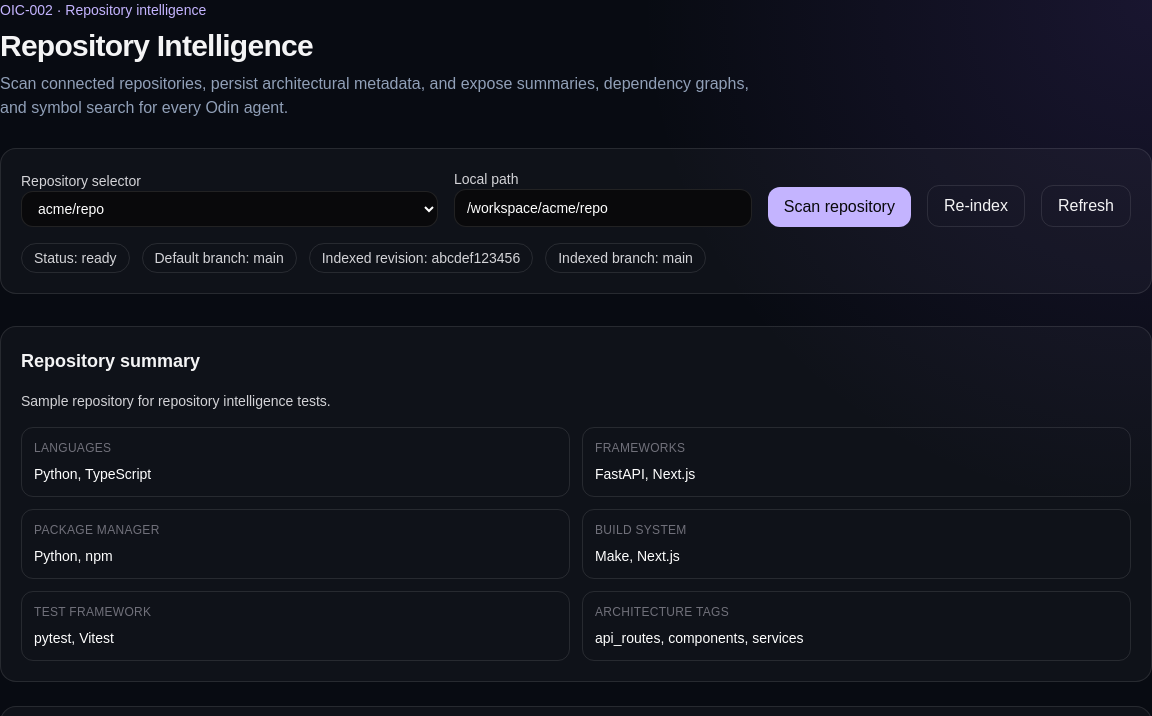
RepositoriesPage › starts async re-indexing and sends repository search filters
Step 1. Click the button "Re-index" → x=976, y=206, box [927,185,1025,227]
(page scrolled)
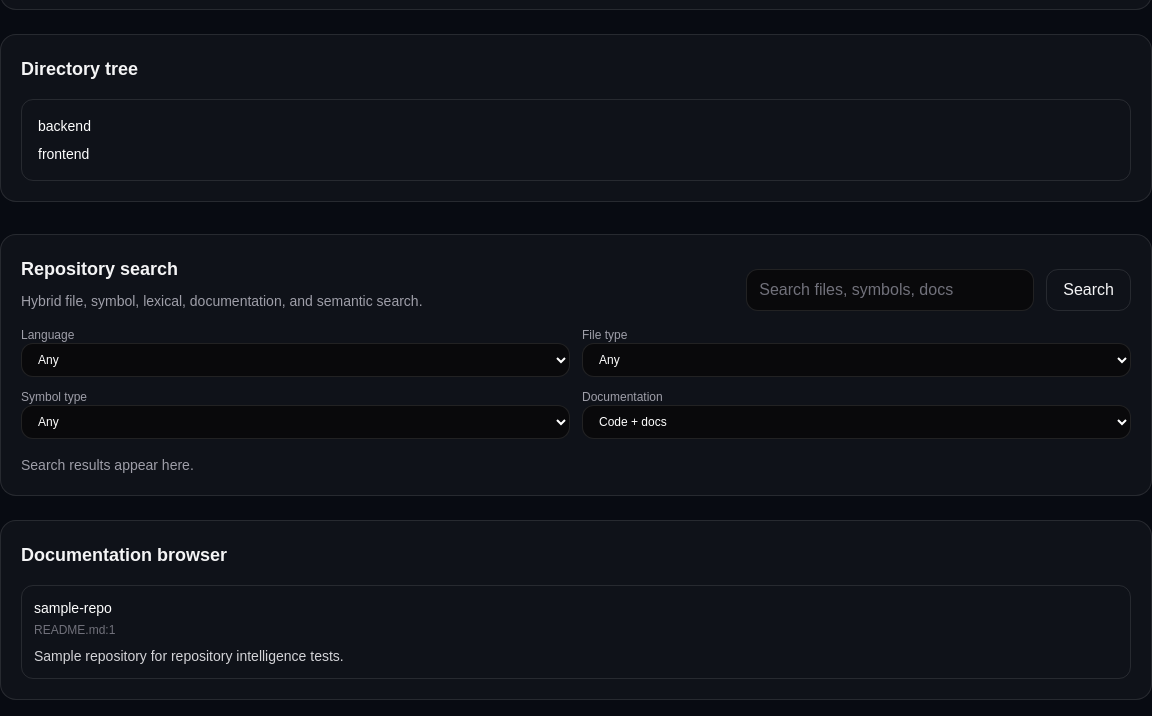
Step 2. Select "TypeScript" in the dropdown labelled "Language" → x=296, y=360, box [21,343,570,377]
Step 3. Select "Code" in the dropdown labelled "File type" → x=856, y=360, box [582,343,1131,377]
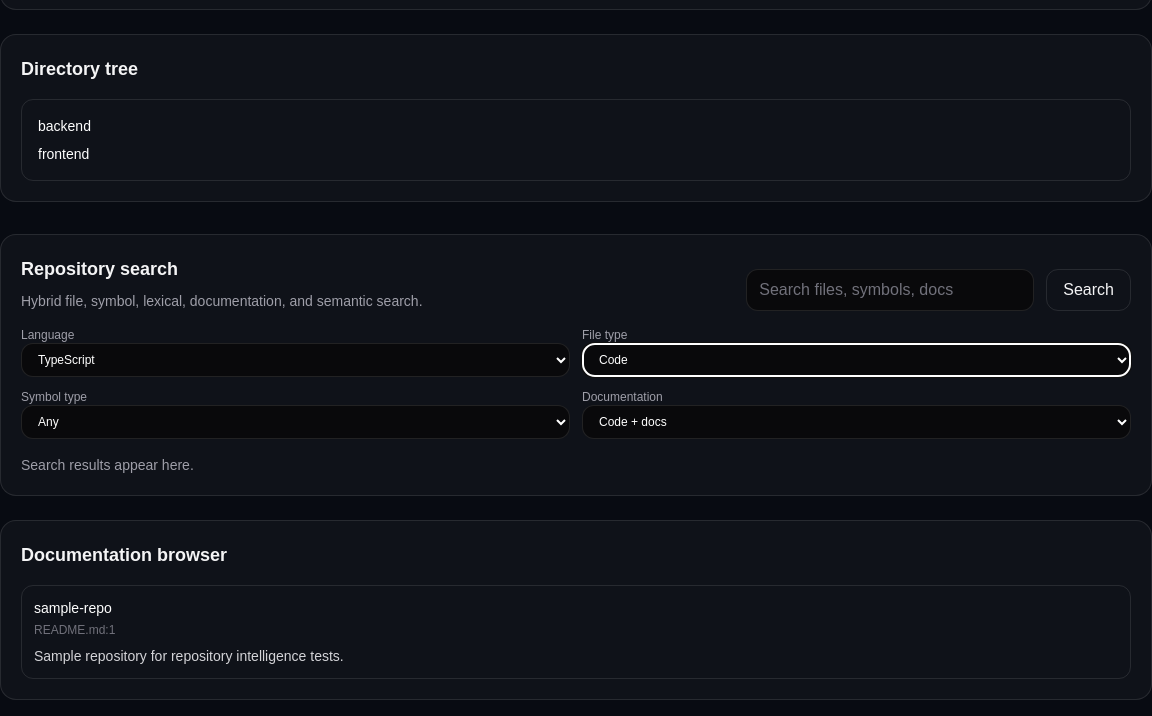
Step 4. Select "Function" in the dropdown labelled "Symbol type" → x=296, y=422, box [21,405,570,439]
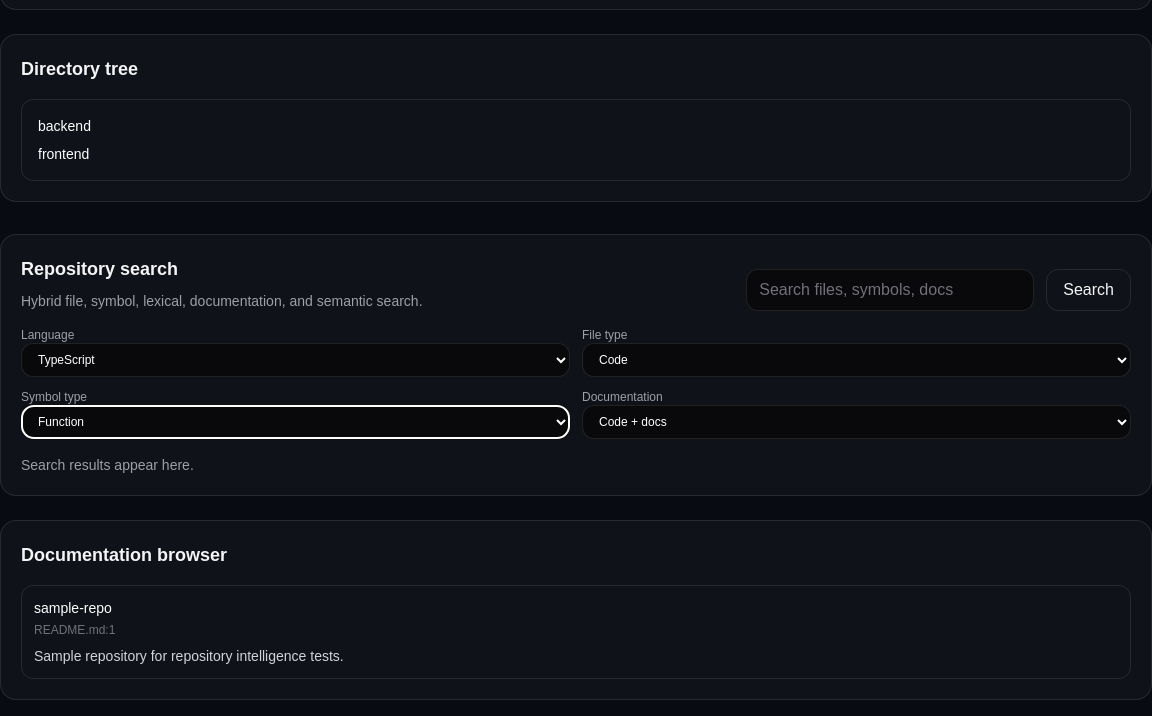
Step 5. Select "Code only" in the dropdown labelled "Documentation" → x=856, y=422, box [582,405,1131,439]
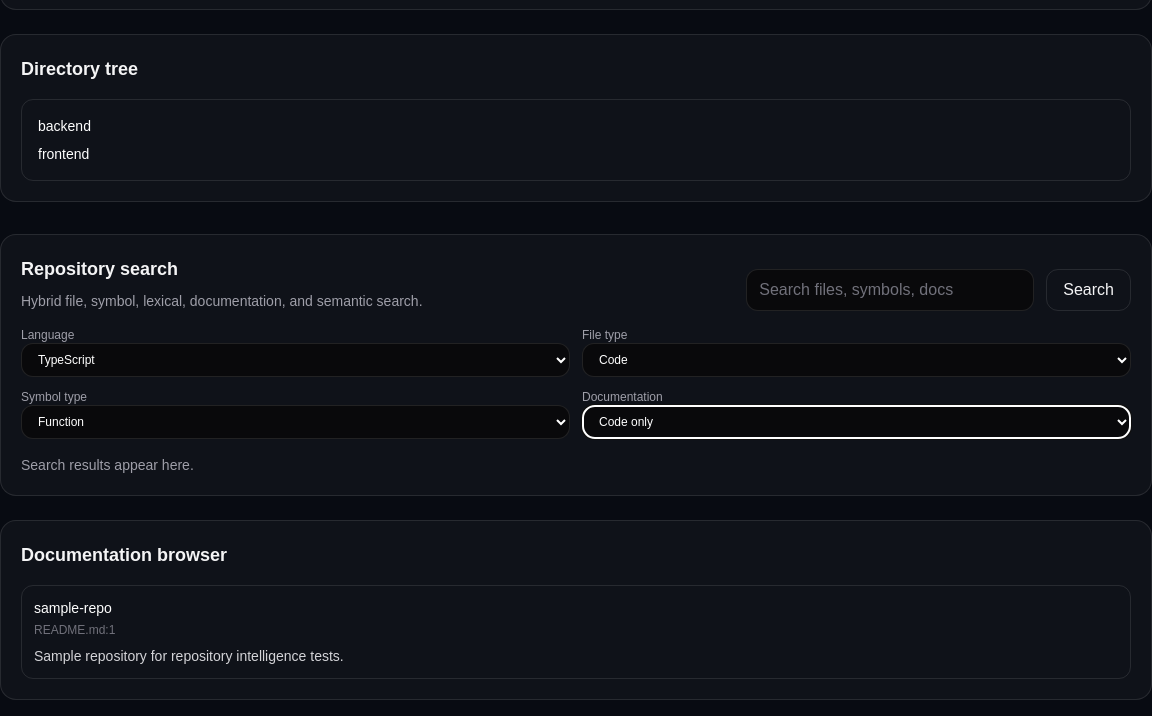
Step 6. Type "health" into the field with placeholder "Search files, symbols, docs" → x=890, y=290, box [746,269,1034,311]
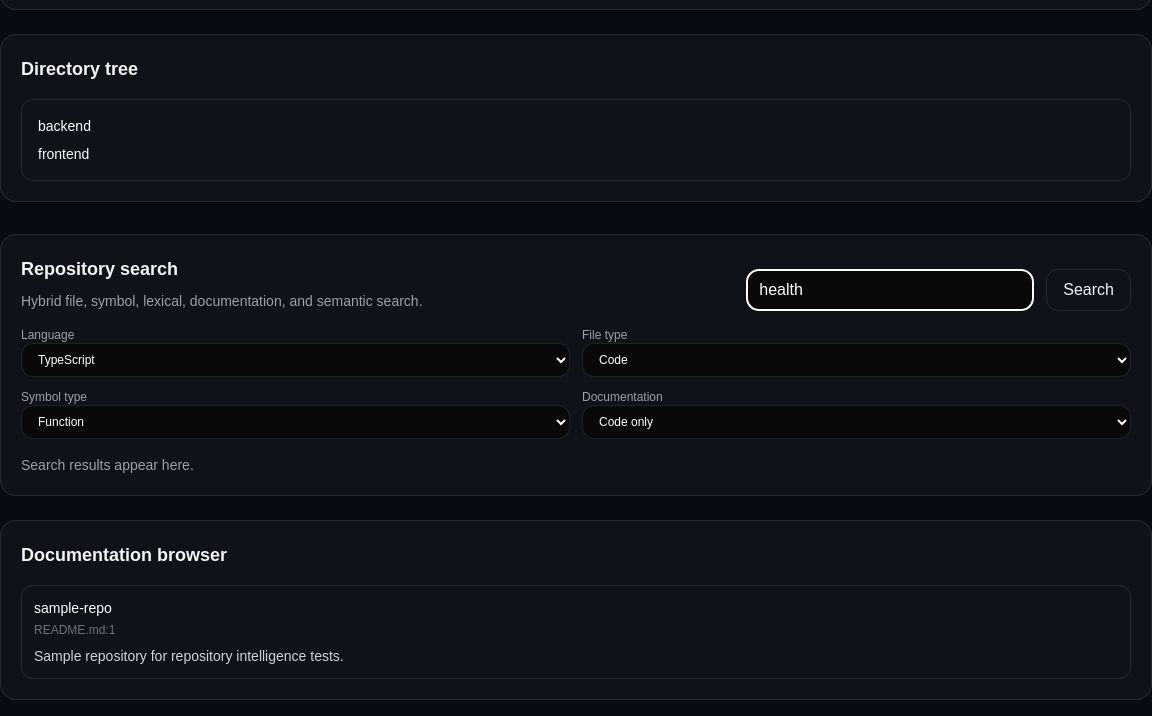
Step 7. Click the button "Search" → x=1089, y=290, box [1046,269,1131,311]
(page scrolled)
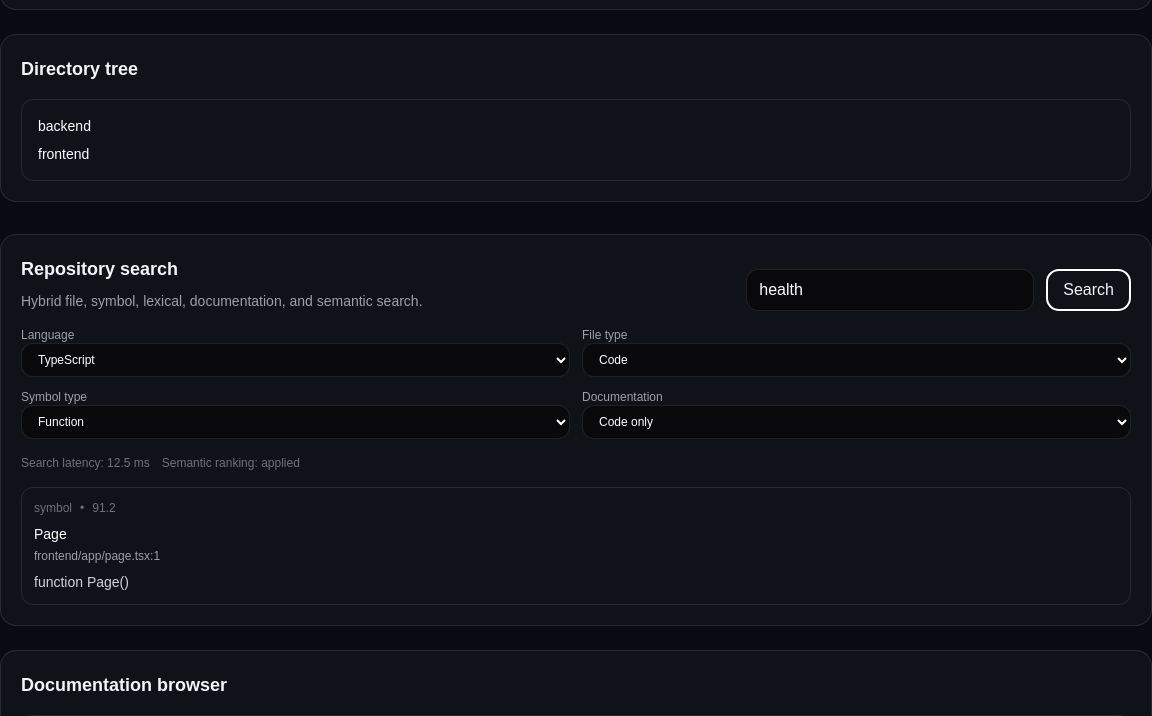
Check: the text "Search latency: 12.5 ms" is shown, box [21,455,150,471]
Check: the text "Semantic ranking: applied" is shown, box [162,455,300,471]
